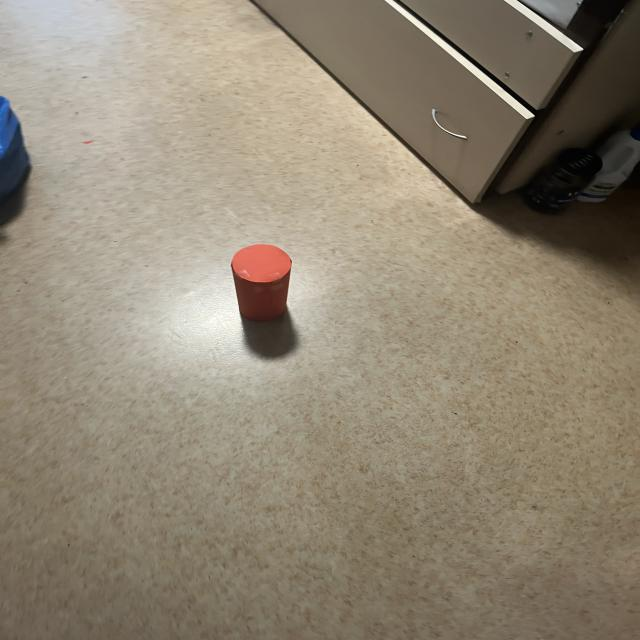przeszkoda: (231, 244, 291, 321)
